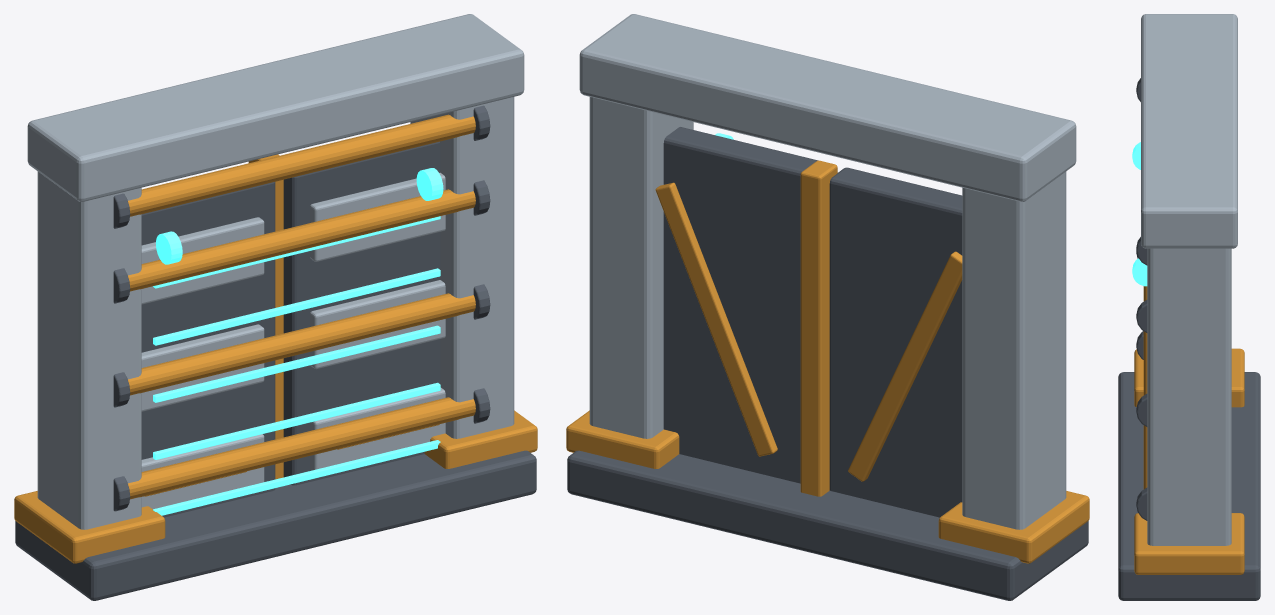
File: helix_containment_gate.glb
3 views of the same model, side by side, from view 1: azimuth 30°, elevation 25°; view 2: azimuth 150°, elevation 25°; view 3: azimuth 270°, elevation 25° (orthographic). The views are drawn at different scales.
Visible parts, largest first — view 1: Gate_TopBeam, Gate_Pylon_-1, Gate_Foundation, Gate_DoorLeaf_1, Gate_Pylon_1, Gate_DoorLeaf_-1, Gate_LockBolt_3, Gate_LockBolt_1, Gate_LockBolt_0, Gate_LockBolt_2, Gate_PylonFoot_-1, Gate_Panel_1_2 (+14 smaller); view 2: Gate_TopBeam, Gate_DoorLeaf_1, Gate_DoorLeaf_-1, Gate_Pylon_-1, Gate_Foundation, Gate_Pylon_1, Gate_CenterSpine, Gate_Brace_1, Gate_Brace_-1, Gate_PylonFoot_-1, Gate_PylonFoot_1; view 3: Gate_Pylon_1, Gate_TopBeam, Gate_Foundation, Gate_PylonFoot_1, Gate_PylonFoot_-1, Gate_ScanEmitter_R, Gate_LockBolt_0, Gate_LockBolt_1, Gate_BoltCap_0_1, Gate_BoltCap_1_1, Gate_BoltCap_2_1.
Part boxes in pixels (x1,y1,x2,y2): Gate_TopBeam: (27, 14, 524, 201); Gate_Pylon_-1: (37, 171, 141, 529); Gate_Foundation: (15, 450, 536, 600); Gate_DoorLeaf_1: (283, 141, 440, 485); Gate_Pylon_1: (410, 97, 514, 438); Gate_DoorLeaf_-1: (141, 182, 275, 517); Gate_LockBolt_3: (128, 114, 475, 216); Gate_LockBolt_1: (128, 293, 475, 395); Gate_LockBolt_0: (128, 397, 475, 499); Gate_LockBolt_2: (128, 189, 475, 291); Gate_PylonFoot_-1: (14, 491, 165, 563); Gate_Panel_1_2: (310, 172, 445, 261); Gate_TopBeam: (579, 14, 1076, 201); Gate_DoorLeaf_1: (663, 127, 818, 483); Gate_DoorLeaf_-1: (829, 167, 962, 517); Gate_Pylon_-1: (962, 171, 1066, 529); Gate_Foundation: (567, 450, 1088, 600); Gate_Pylon_1: (589, 97, 693, 438); Gate_CenterSpine: (800, 160, 837, 496); Gate_Brace_1: (655, 182, 777, 456); Gate_Brace_-1: (848, 251, 962, 481); Gate_PylonFoot_-1: (938, 491, 1089, 563); Gate_PylonFoot_1: (566, 410, 679, 468); Gate_Pylon_1: (1147, 248, 1231, 545); Gate_TopBeam: (1141, 14, 1237, 248); Gate_Foundation: (1118, 372, 1260, 600); Gate_PylonFoot_1: (1134, 513, 1244, 574); Gate_PylonFoot_-1: (1134, 348, 1244, 407); Gate_ScanEmitter_R: (1132, 258, 1147, 286); Gate_LockBolt_0: (1143, 425, 1147, 489); Gate_LockBolt_1: (1143, 331, 1147, 395); Gate_BoltCap_0_1: (1136, 487, 1147, 520); Gate_BoltCap_1_1: (1136, 394, 1147, 426); Gate_BoltCap_2_1: (1136, 300, 1147, 332).
Bounding box in the file's own units: 7.5 × 6.7 × 2.2.
